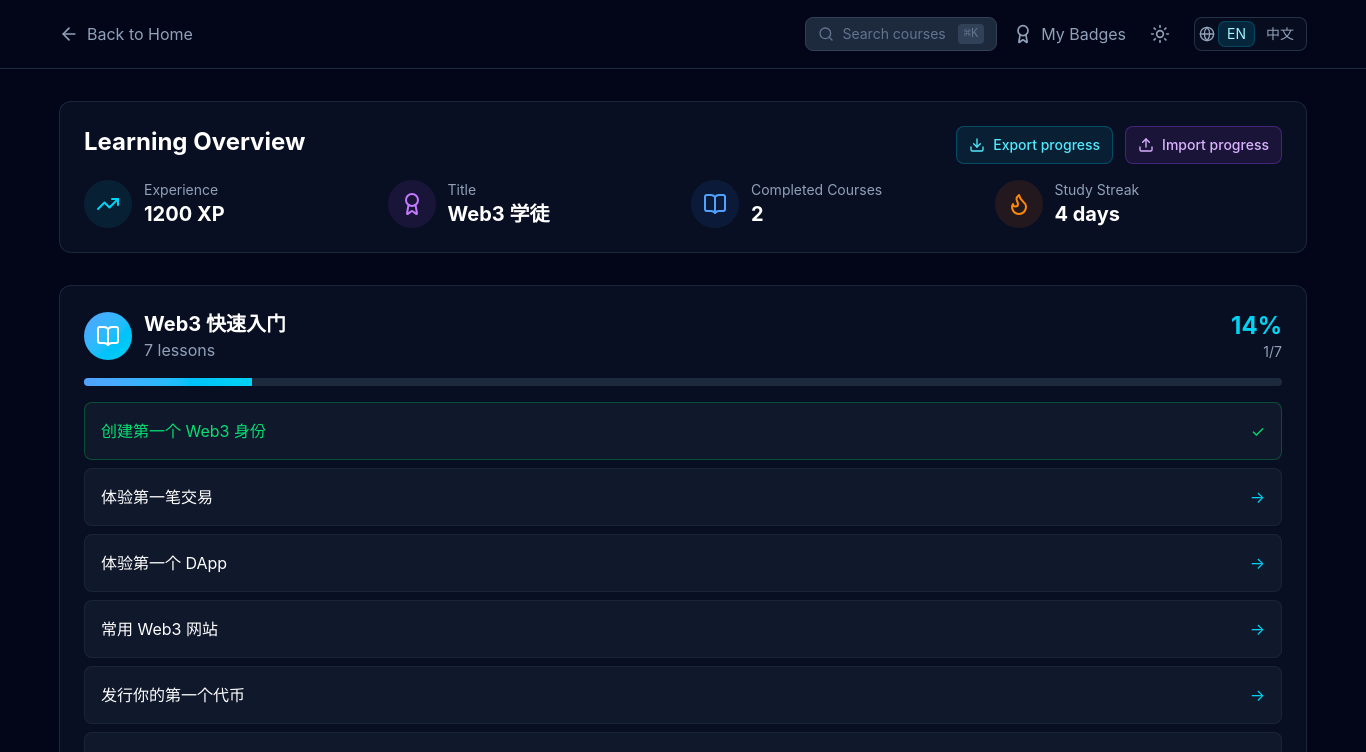
Test case: DashboardPage progress export › downloads a parseable JSON progress snapshot with today in the filename
The width and height of the screenshot is (1366, 752).
Click the button "Export progress". click: (1035,145)
box: [956,126,1113,164]
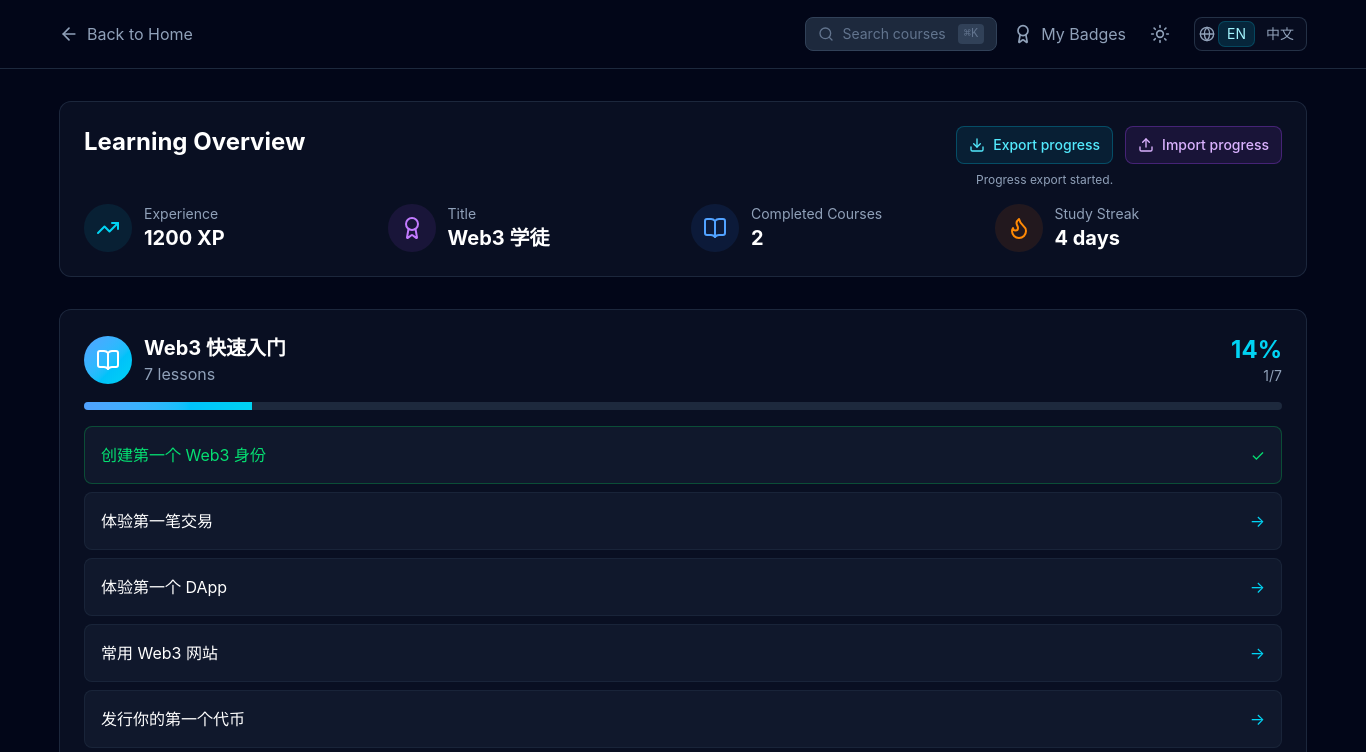
Now the text "Progress export started." is shown, box [976,172,1113,188]
